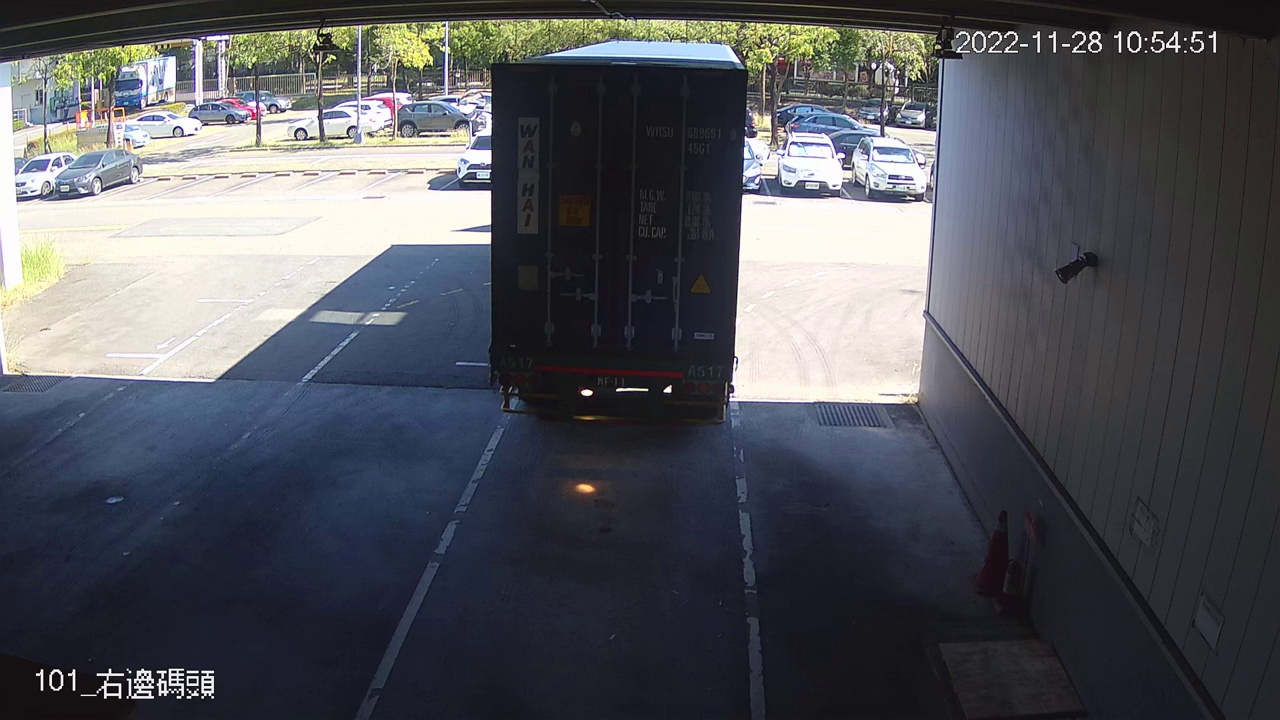container: (640, 117, 739, 161)
